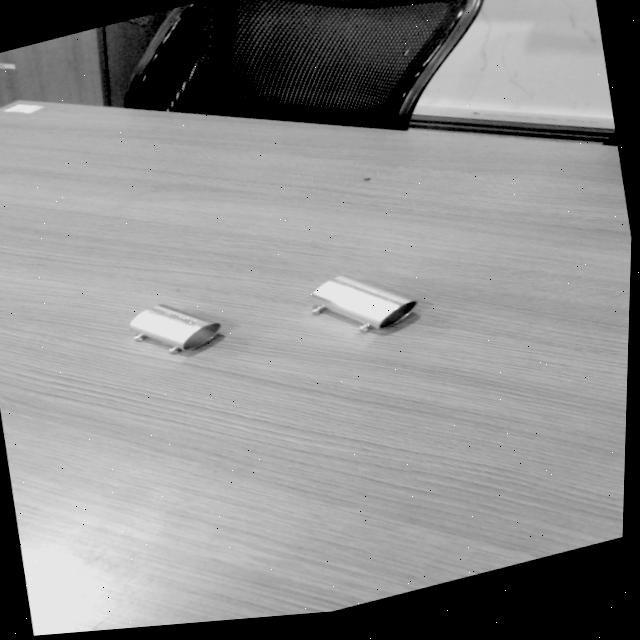Co_Lon: (305, 263, 416, 344)
Co_Nho: (124, 295, 220, 365)
